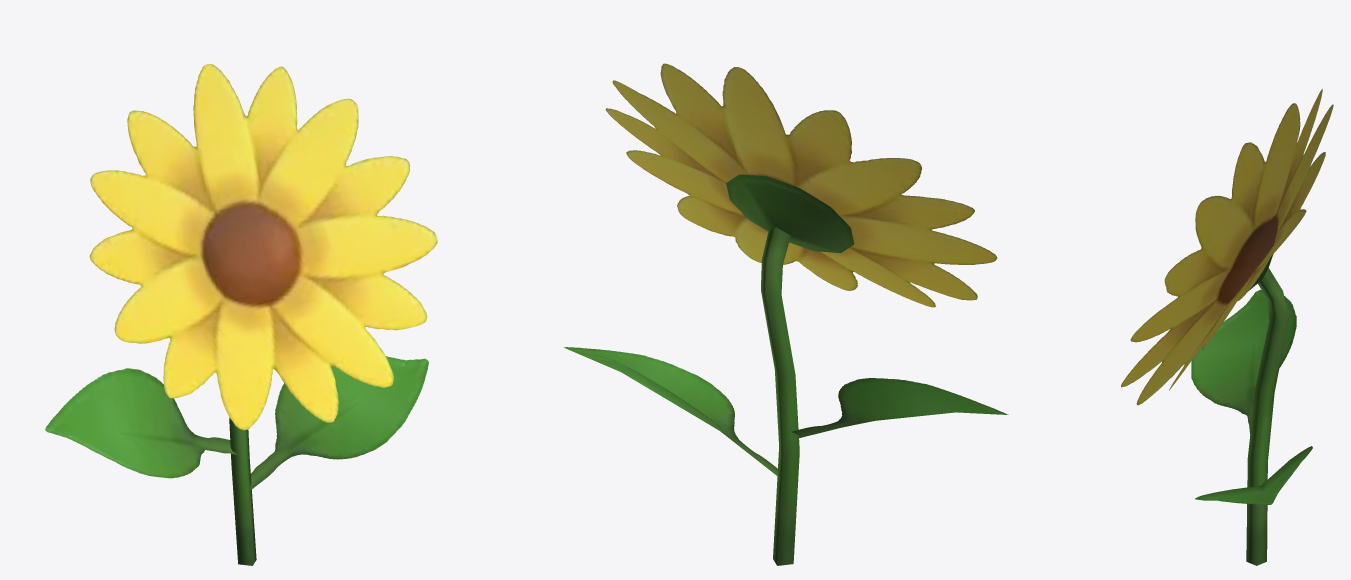
The model's file is sunflower-transformed.glb.
3 views of the same model, side by side, from view 1: azimuth 30°, elevation 25°; view 2: azimuth 150°, elevation 25°; view 3: azimuth 270°, elevation 25° (orthographic). The views are drawn at different scales.
Visible parts, largest first — view 1: sunflower; view 2: sunflower; view 3: sunflower.
Boxes of the visible parts, left/top/right/bottom form: sunflower: left=45, top=64, right=437, bottom=565; sunflower: left=564, top=63, right=1008, bottom=565; sunflower: left=1121, top=89, right=1333, bottom=565.
Size of the model in its own units: 0.8239 by 0.8396 by 0.369.
1 material, 1 textured.
